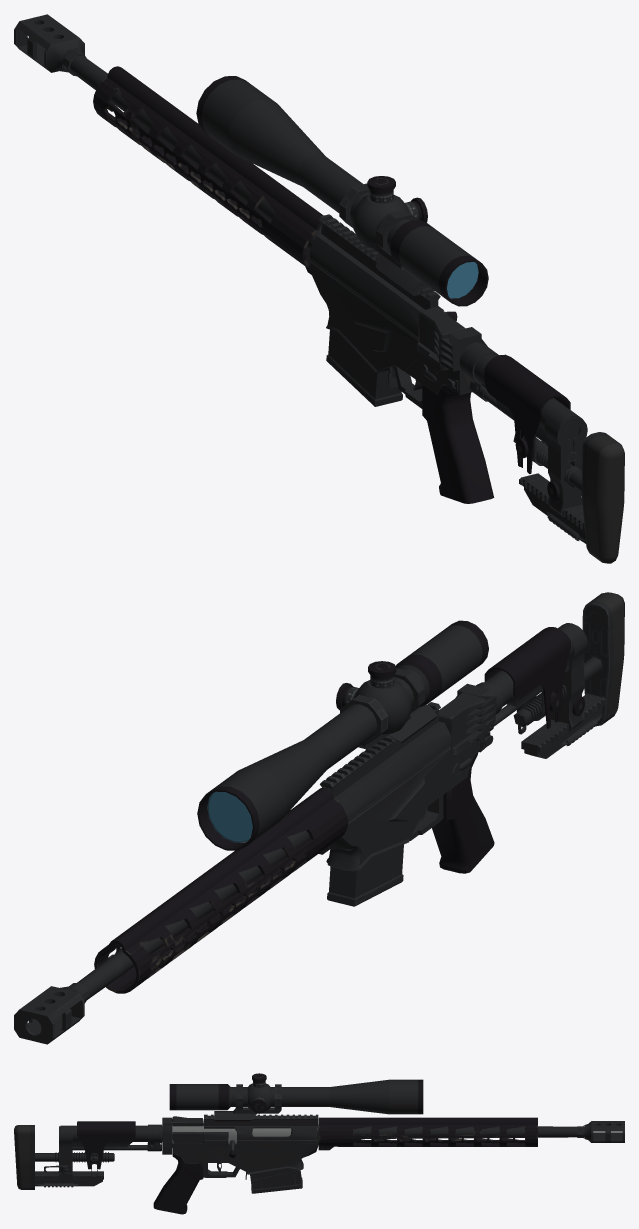
The model's file is gun-sniper.glb.
3 renders of one model, top to bottom at view 1: azimuth 30°, elevation 25°; view 2: azimuth 150°, elevation 25°; view 3: azimuth 270°, elevation 25°, orthographic. The views are drawn at different scales.
Parts seen in each view (by area): view 1: LPAimMain_LowPoly_06, LPCooler_LowPoly_05, LPBody_LowPoly_07, LPHandle_LowPoly_05, LPButtRubber_LowPoly_05, LPRuggerButt_LowPoly_06, LPmuzzlebrake_LowPoly_05, LPButtMiddle_LowPoly_05, LPmagazine_LowPoly_06, LPbarrel_LowPoly_08, LPAimConnector_LowPoly_05, PicatinnyRail_LowPoly_06LP (+4 smaller); view 2: LPAimMain_LowPoly_06, LPCooler_LowPoly_05, LPBody_LowPoly_07, LPButtRubber_LowPoly_05, LPHandle_LowPoly_05, LPRuggerButt_LowPoly_06, LPmuzzlebrake_LowPoly_05, LPbarrel_LowPoly_08, LPmagazine_LowPoly_06, LPAimConnector_LowPoly_05, PicatinnyRail_LowPoly_06LP, LPconnectorBody_LowPoly_05 (+6 smaller); view 3: LPAimMain_LowPoly_06, LPCooler_LowPoly_05, LPBody_LowPoly_07, LPHandle_LowPoly_05, LPRuggerButt_LowPoly_06, LPbarrel_LowPoly_08, LPButtRubber_LowPoly_05, LPmagazine_LowPoly_06, PicatinnyRail_LowPoly_06LP, LPAimConnector_LowPoly_05, LPGate_LowPoly_08, LPmuzzlebrake_LowPoly_05 (+7 smaller).
Part boxes in pixels (<box>): LPAimMain_LowPoly_06: <box>196,76,488,306</box>; LPCooler_LowPoly_05: <box>93,66,323,274</box>; LPBody_LowPoly_07: <box>310,234,448,408</box>; LPHandle_LowPoly_05: <box>422,384,494,503</box>; LPButtRubber_LowPoly_05: <box>582,432,624,563</box>; LPRuggerButt_LowPoly_06: <box>484,354,570,473</box>; LPmuzzlebrake_LowPoly_05: <box>14,14,84,72</box>; LPButtMiddle_LowPoly_05: <box>544,416,587,517</box>; LPmagazine_LowPoly_06: <box>326,330,402,406</box>; LPbarrel_LowPoly_08: <box>70,56,321,250</box>; LPAimConnector_LowPoly_05: <box>339,183,434,295</box>; PicatinnyRail_LowPoly_06LP: <box>319,214,440,309</box>; LPAimMain_LowPoly_06: <box>197,620,488,850</box>; LPCooler_LowPoly_05: <box>94,787,348,993</box>; LPBody_LowPoly_07: <box>326,721,480,871</box>; LPButtRubber_LowPoly_05: <box>582,592,624,726</box>; LPHandle_LowPoly_05: <box>432,752,494,873</box>; LPRuggerButt_LowPoly_06: <box>484,627,570,728</box>; LPmuzzlebrake_LowPoly_05: <box>14,986,84,1044</box>; LPbarrel_LowPoly_08: <box>70,830,310,1009</box>; LPmagazine_LowPoly_06: <box>327,844,403,906</box>; LPAimConnector_LowPoly_05: <box>340,668,437,749</box>; PicatinnyRail_LowPoly_06LP: <box>320,702,440,797</box>; LPconnectorBody_LowPoly_05: <box>439,692,485,754</box>; LPAimMain_LowPoly_06: <box>169,1079,423,1114</box>; LPCooler_LowPoly_05: <box>318,1117,537,1150</box>; LPBody_LowPoly_07: <box>172,1123,318,1177</box>; LPHandle_LowPoly_05: <box>153,1153,203,1214</box>; LPRuggerButt_LowPoly_06: <box>77,1121,135,1169</box>; LPbarrel_LowPoly_08: <box>317,1125,584,1138</box>; LPButtRubber_LowPoly_05: <box>14,1125,34,1189</box>; LPmagazine_LowPoly_06: <box>250,1168,302,1193</box>; PicatinnyRail_LowPoly_06LP: <box>204,1114,318,1125</box>; LPAimConnector_LowPoly_05: <box>214,1084,281,1121</box>; LPGate_LowPoly_08: <box>172,1125,291,1157</box>; LPmuzzlebrake_LowPoly_05: <box>584,1121,624,1142</box>.
Size of the model in its own units: 2.52 by 7.9 by 32.47.
Materials: 1 (1 with a texture image).
